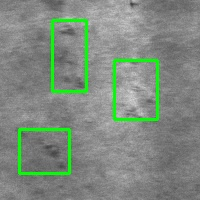rolled-in_scale: (114, 60, 157, 119), (52, 20, 86, 91), (19, 129, 69, 173)
